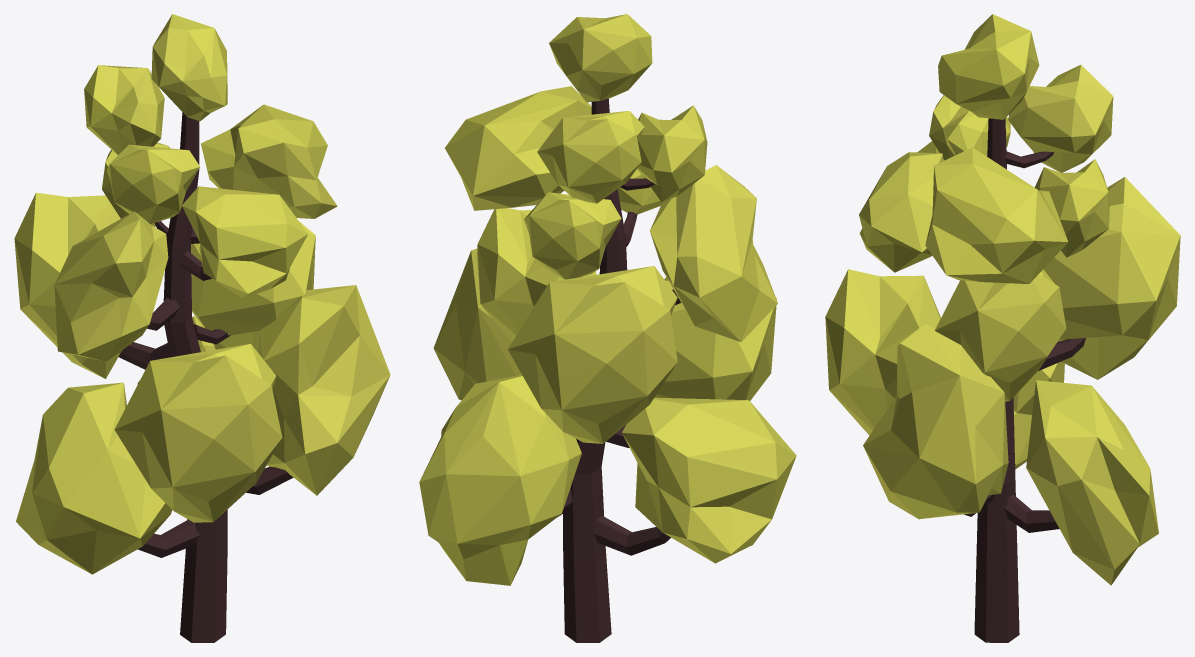
Rendered from tree4.fbx.
The picture shows the model from 3 angles, left to right: view 1: azimuth 30°, elevation 25°; view 2: azimuth 150°, elevation 25°; view 3: azimuth 270°, elevation 25°; orthographic projection. The views are drawn at different scales.
Parts seen in each view (by area): view 1: Cylinder; view 2: Cylinder; view 3: Cylinder.
Boxes of the visible parts, x1,y1,x2,y2 form: Cylinder: [14, 14, 390, 642]; Cylinder: [419, 14, 796, 642]; Cylinder: [825, 14, 1180, 642].
Bounding box in the file's own units: 504 × 871 × 465.
